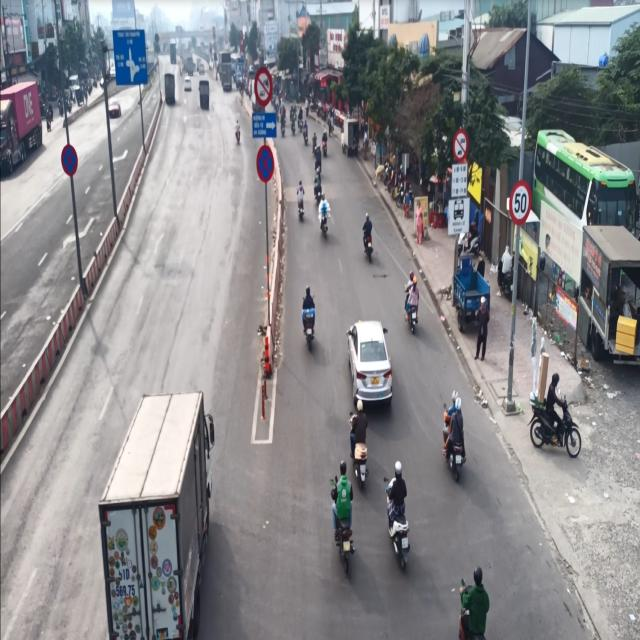car: (346, 313, 398, 415)
motor: (385, 458, 421, 567), (331, 464, 360, 567), (441, 391, 466, 485), (348, 396, 374, 486), (298, 284, 319, 354), (402, 270, 422, 338), (359, 205, 378, 263), (315, 193, 331, 255)
truck: (96, 384, 219, 640)
